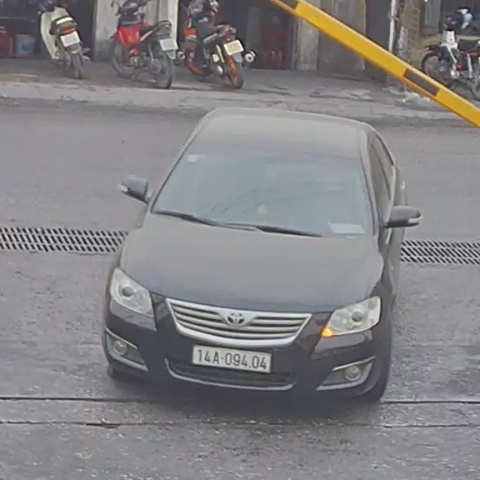vehicle plate: (191, 340, 271, 376)
